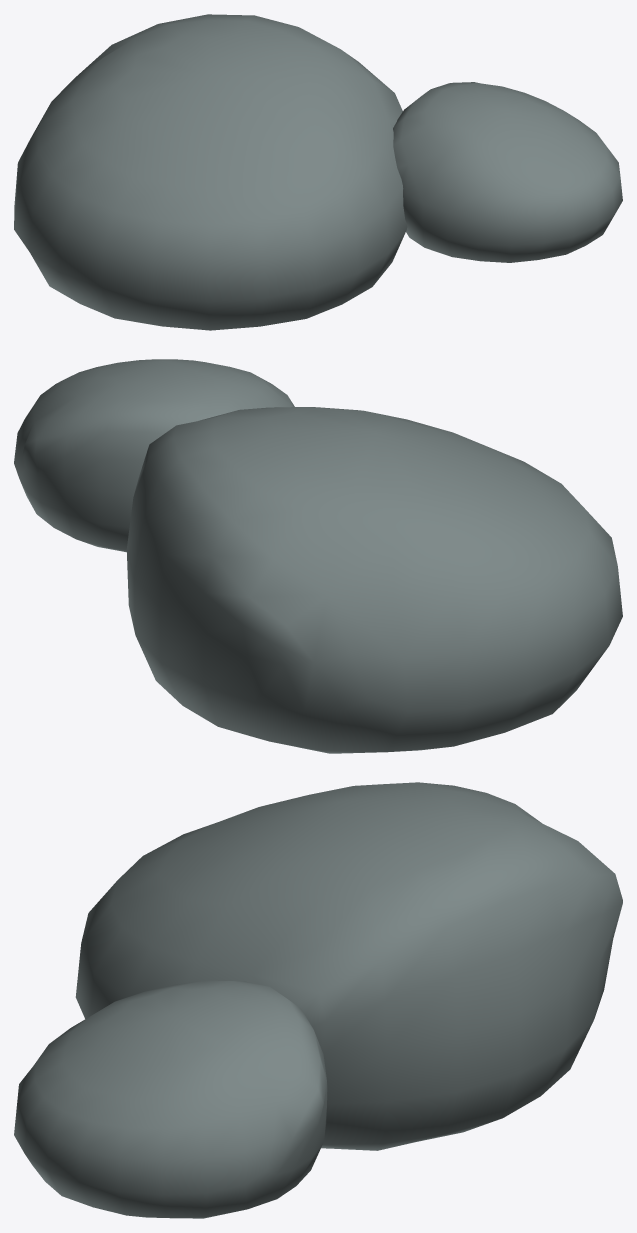
File: rocks.fbx
The picture shows the model from 3 angles, top to bottom: view 1: azimuth 30°, elevation 25°; view 2: azimuth 150°, elevation 25°; view 3: azimuth 270°, elevation 25°; orthographic projection. The views are drawn at different scales.
Visible parts, largest first — view 1: pSphere3; view 2: pSphere3; view 3: pSphere3.
Part boxes in pixels (box(x1,y1,x2,y2)): pSphere3: box(14, 14, 622, 330); pSphere3: box(14, 359, 622, 753); pSphere3: box(14, 782, 622, 1218).
Size of the model in its own units: 1.26 by 0.5479 by 0.9878.
